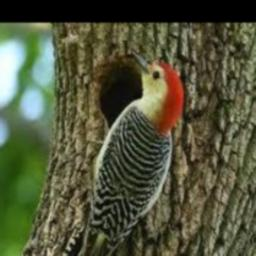Woodpecker: (50, 51, 184, 256)
